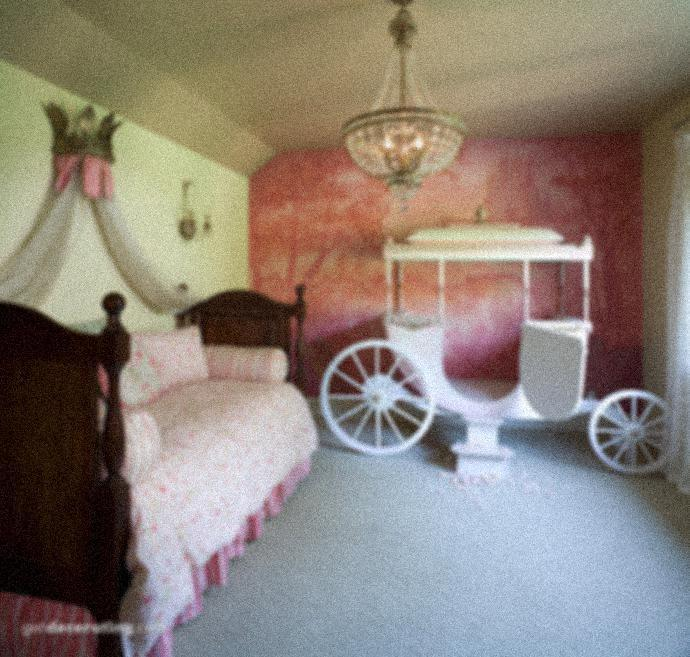Otro Obstaculo: (329, 224, 667, 475)
